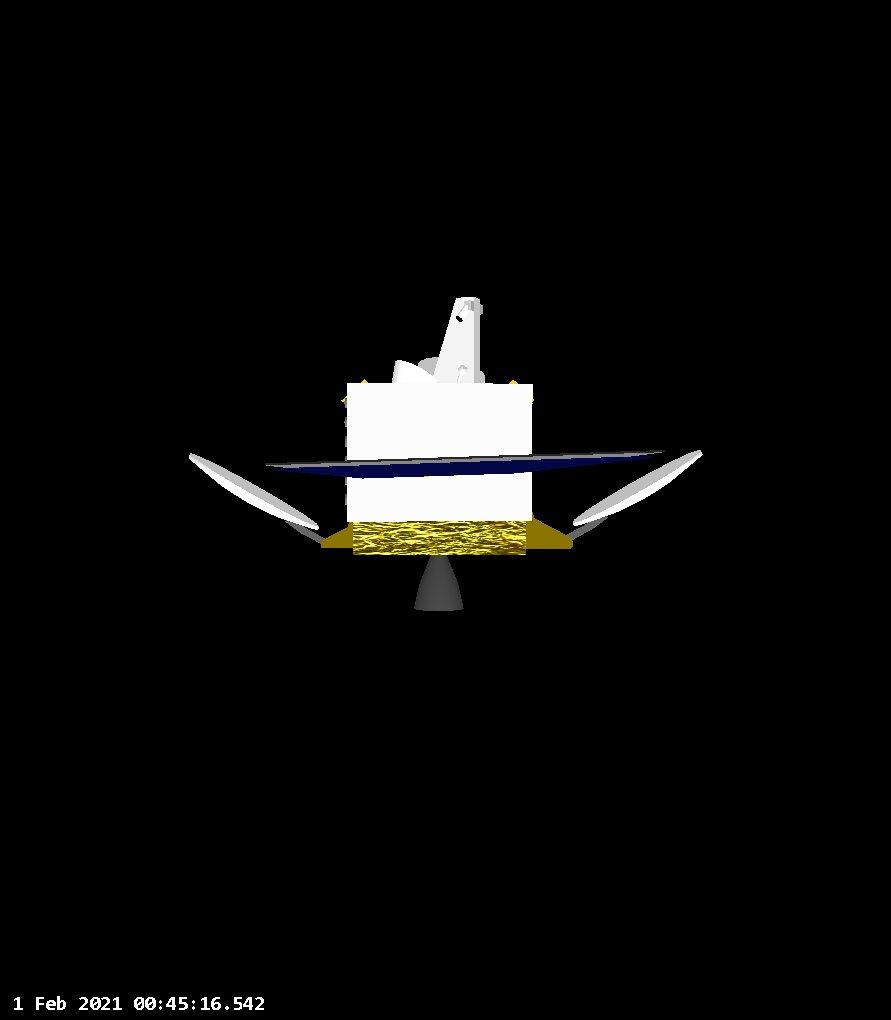antenna: (559, 439, 712, 539), (180, 444, 324, 545)
body: (337, 293, 534, 567)
solar: (254, 442, 670, 484)
thruster: (404, 548, 473, 621)
